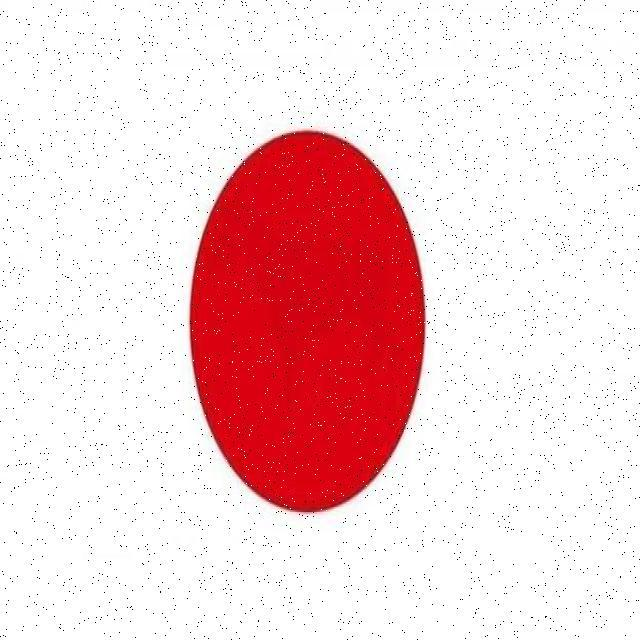Circle: (186, 131, 427, 515)
